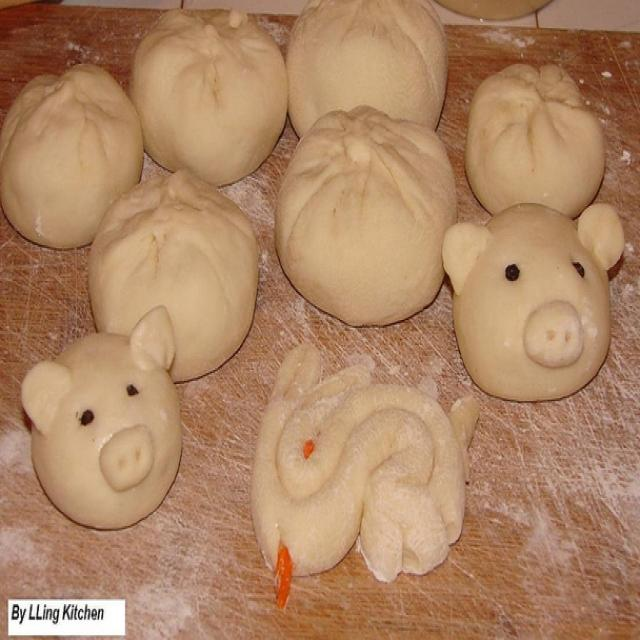带馅早点: (11, 17, 612, 596)
